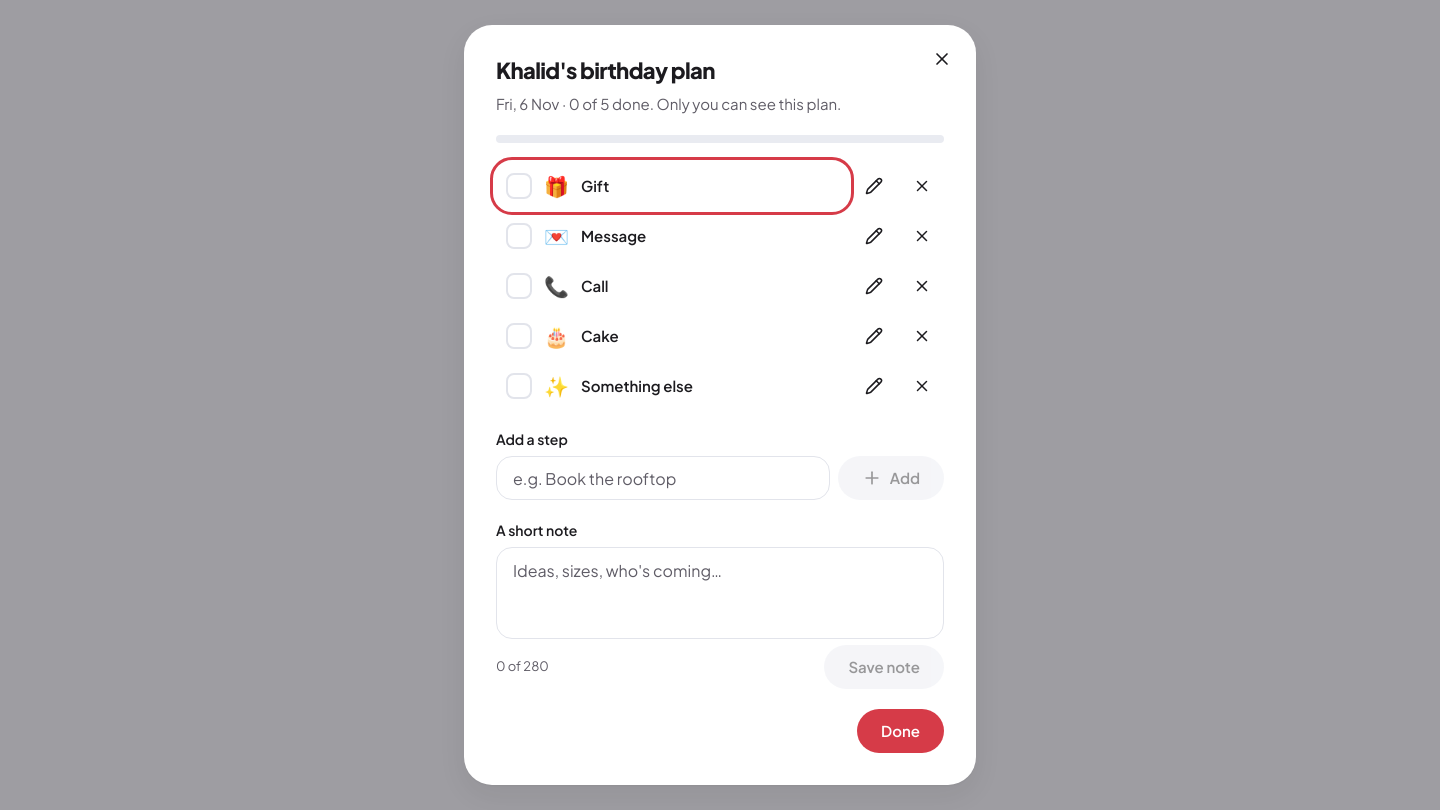
the plan sheet › renaming a suggestion starts the plan, then renames that step
Click the 8th button named "Rename Cake" at (874, 336), box 852,314 -> 896,358
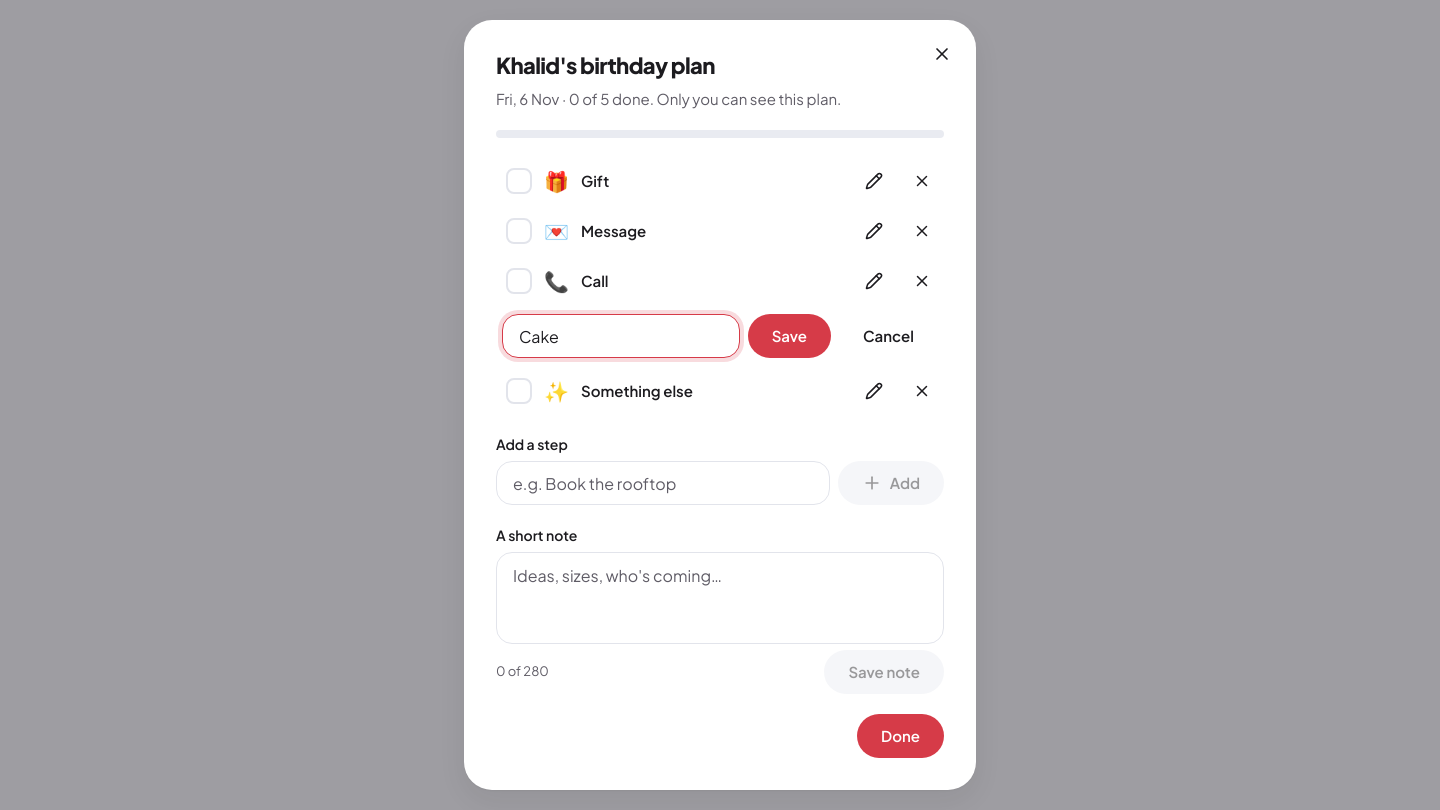
Replace the text in the field named "Rename Cake" with "Fig cake" at (621, 336), box 502,314 -> 740,358
Then press Enter
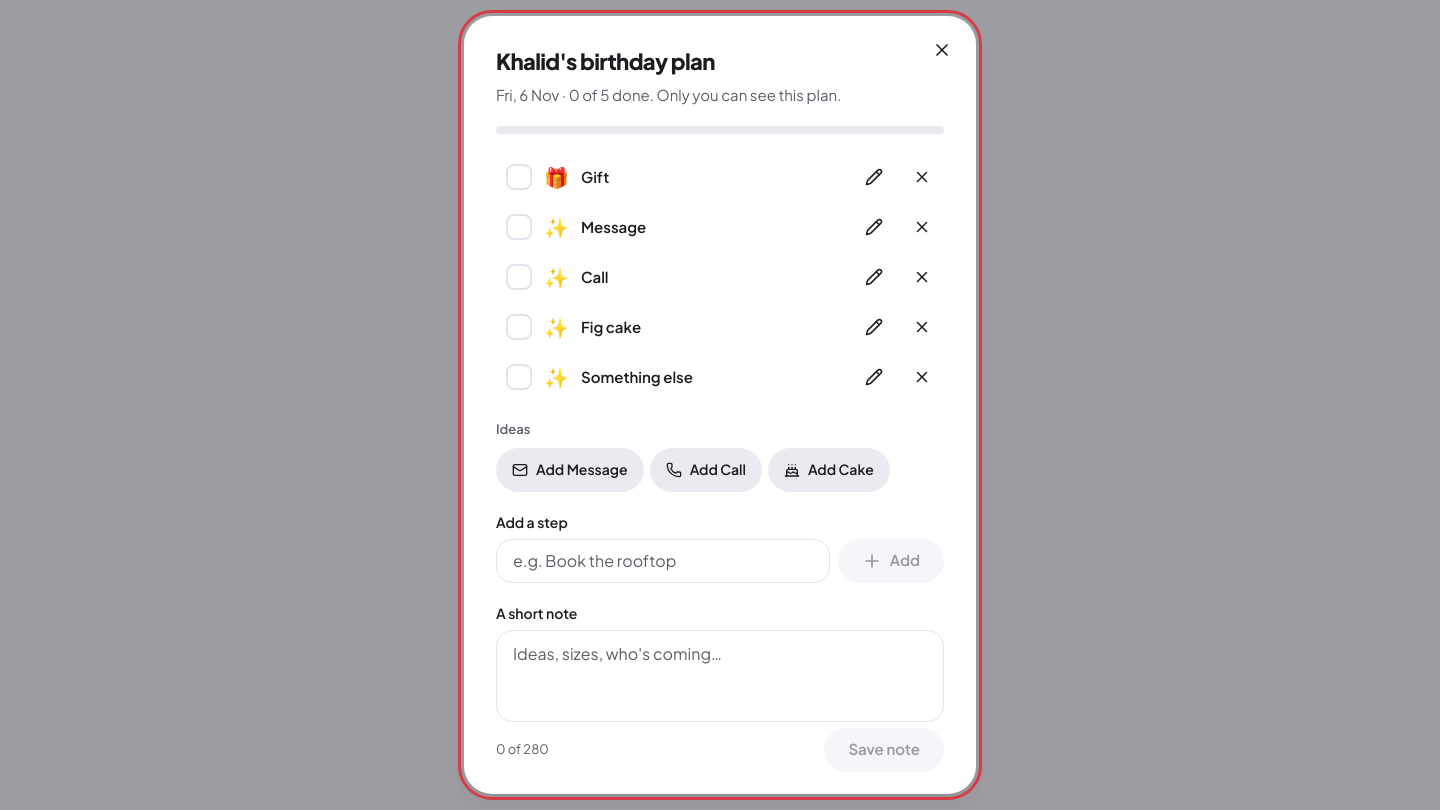
Now the checkbox labelled "✨ Fig cake" is shown, box 496,304 -> 848,350
